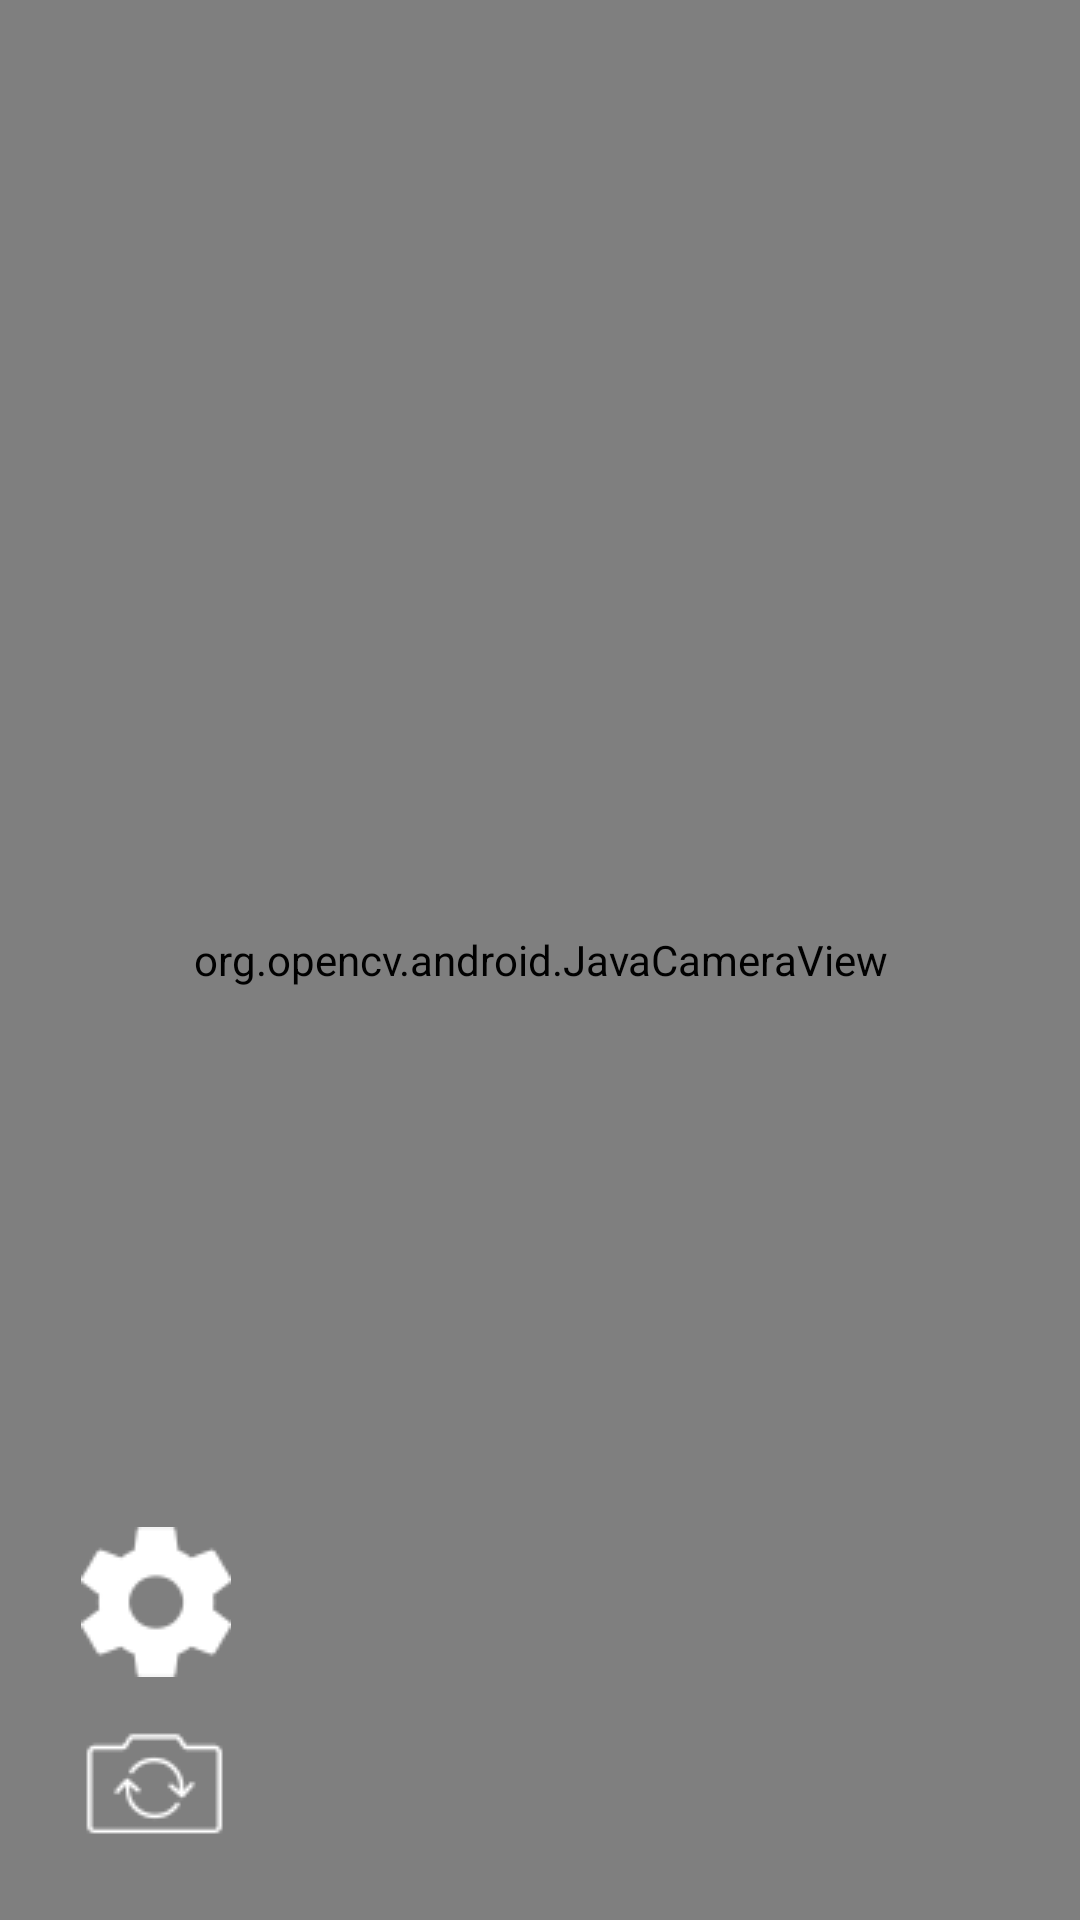

Icons on this 1080x1920 Android screen, each with the point to tap as (x,y):
settings: (156,1602)
